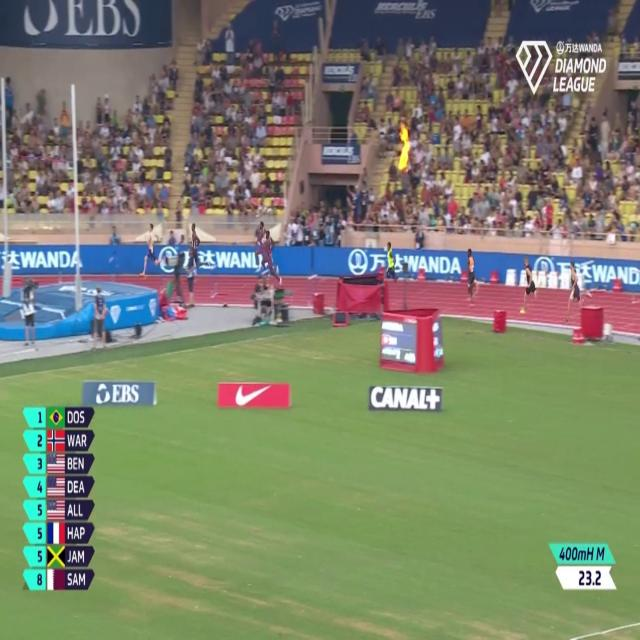athlete: (519, 251, 543, 328), (566, 256, 590, 327), (141, 217, 165, 280), (463, 244, 485, 312), (262, 225, 283, 292), (382, 240, 404, 296), (187, 216, 204, 282), (254, 214, 270, 276)
hurdle: (209, 268, 229, 305)
